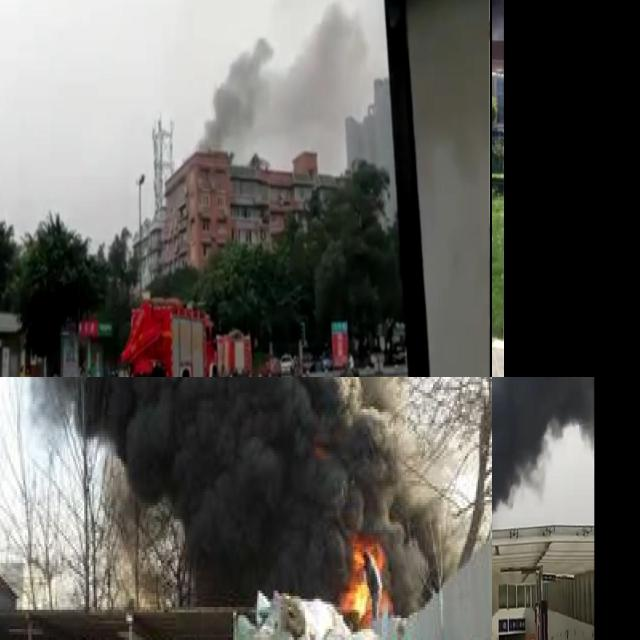fire: (342, 536, 386, 618)
smoke: (0, 377, 459, 599), (198, 2, 368, 146), (492, 377, 593, 534)
